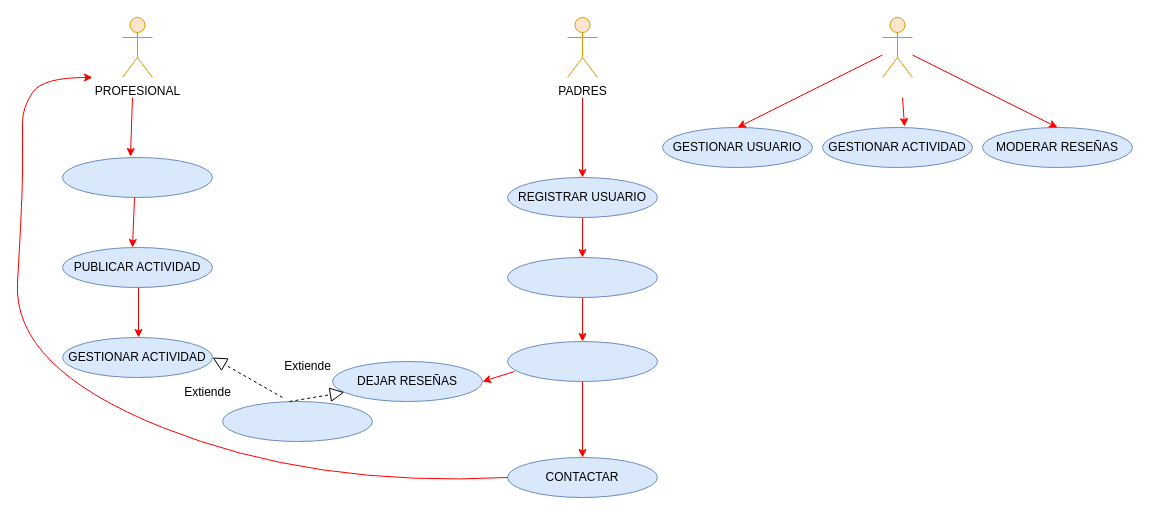
The diagram is 1151 pixels wide and 515 high, and some of its shapes have lost their labels. Each missing label, with the centre of its shape:
"ADMINISTRADOR" goes at point (897, 47).
"BUSCAR ACTIVIDAD" goes at point (582, 277).
"CREAR PERFIL" goes at point (137, 177).
"GESTIONAR RESEÑAS" goes at point (297, 421).
"VER DETALLES PROF." goes at point (582, 361).
